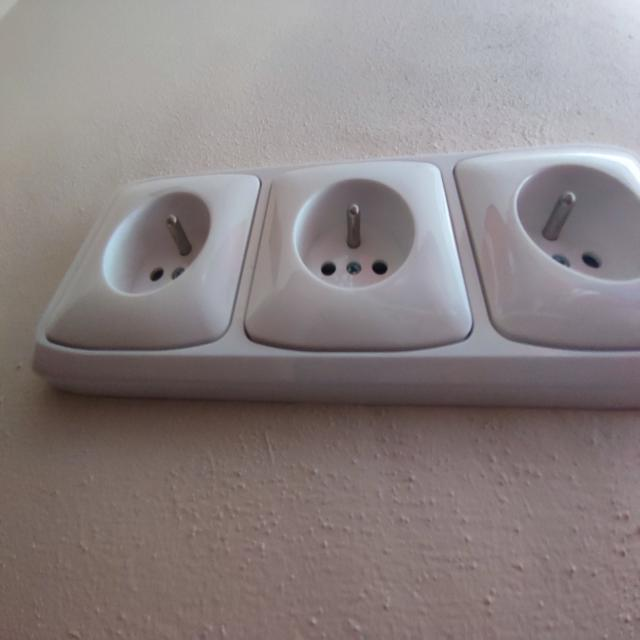house plug: (484, 154, 640, 307), (280, 169, 447, 301), (79, 180, 236, 319)
